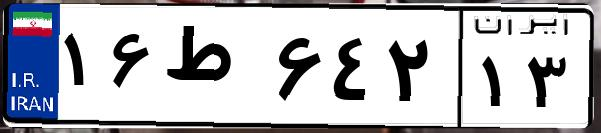1: (57, 26, 110, 100), (475, 38, 525, 113)
2: (385, 28, 445, 110)
3: (525, 38, 570, 115)
4: (330, 28, 385, 110)
6: (270, 28, 330, 110), (110, 28, 158, 98)
ط: (158, 20, 270, 120)
